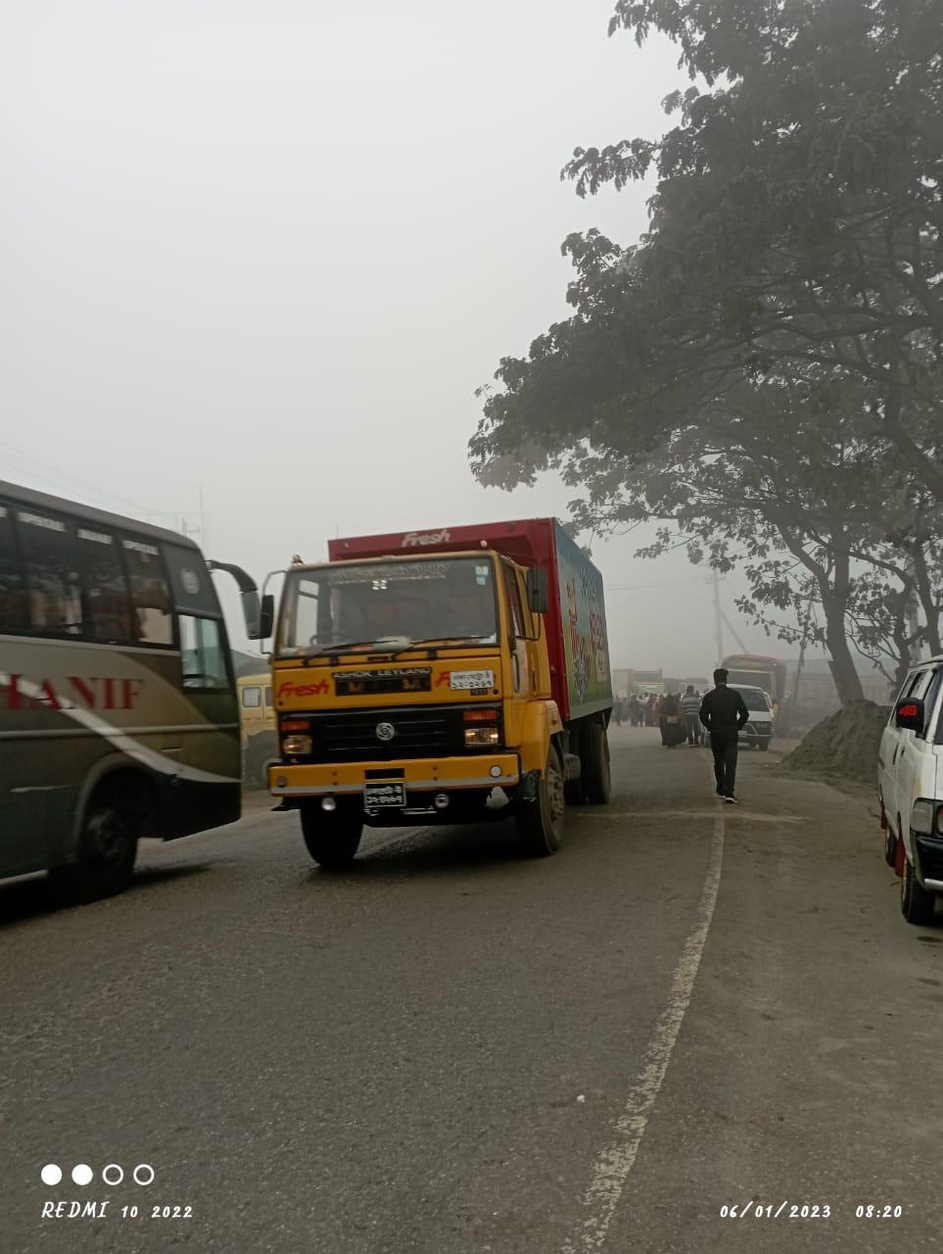Bus: (1, 462, 267, 890)
Car: (868, 650, 943, 940), (713, 673, 783, 753)
Truck: (252, 510, 624, 862)
